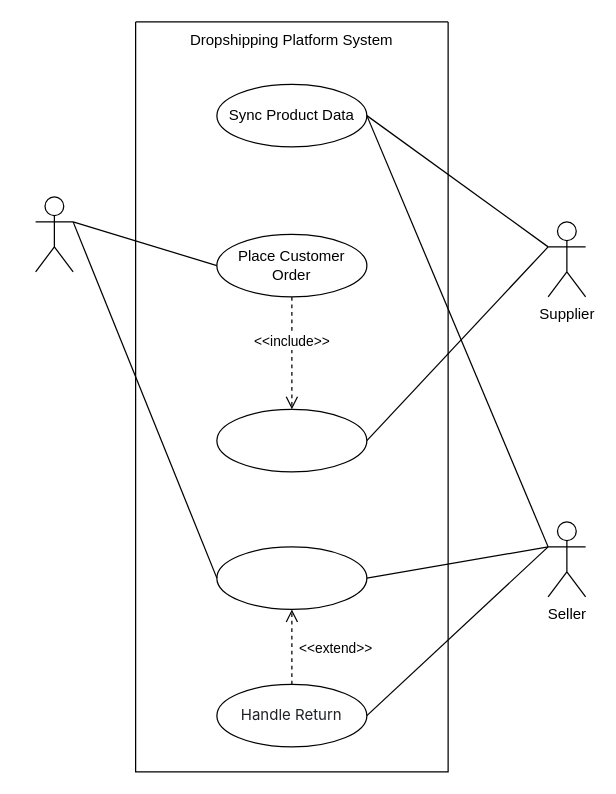
Some shapes in this 616 by 794 pixel diagram are drawn without their labels. The shapes that lost their labels are listed below. From the top down, each one's centre as x and y in pixels, then its label:
[53,234]: Customer
[291,440]: Forward Order to Supplier
[291,577]: Track Shipment
